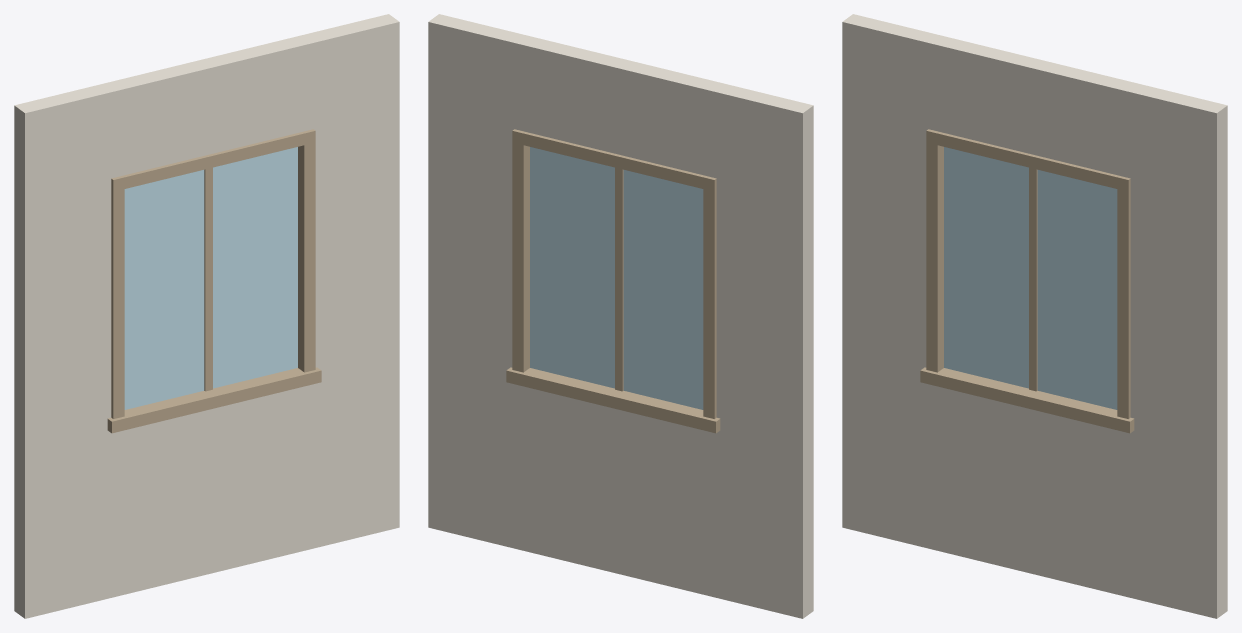
File: wallWindow.glb
3 renders of one model, left to right at view 1: azimuth 30°, elevation 25°; view 2: azimuth 150°, elevation 25°; view 3: azimuth 330°, elevation 25°, orthographic.
Visible parts, largest first — view 1: wallWindow; view 2: wallWindow; view 3: wallWindow.
Boxes of the visible parts, left/top/right/bottom form: wallWindow: left=14, top=14, right=399, bottom=618; wallWindow: left=428, top=14, right=813, bottom=618; wallWindow: left=842, top=14, right=1227, bottom=618.
Bounding box in the file's own units: 1 × 1.29 × 0.09.
Materials: 1 (1 with a texture image).
